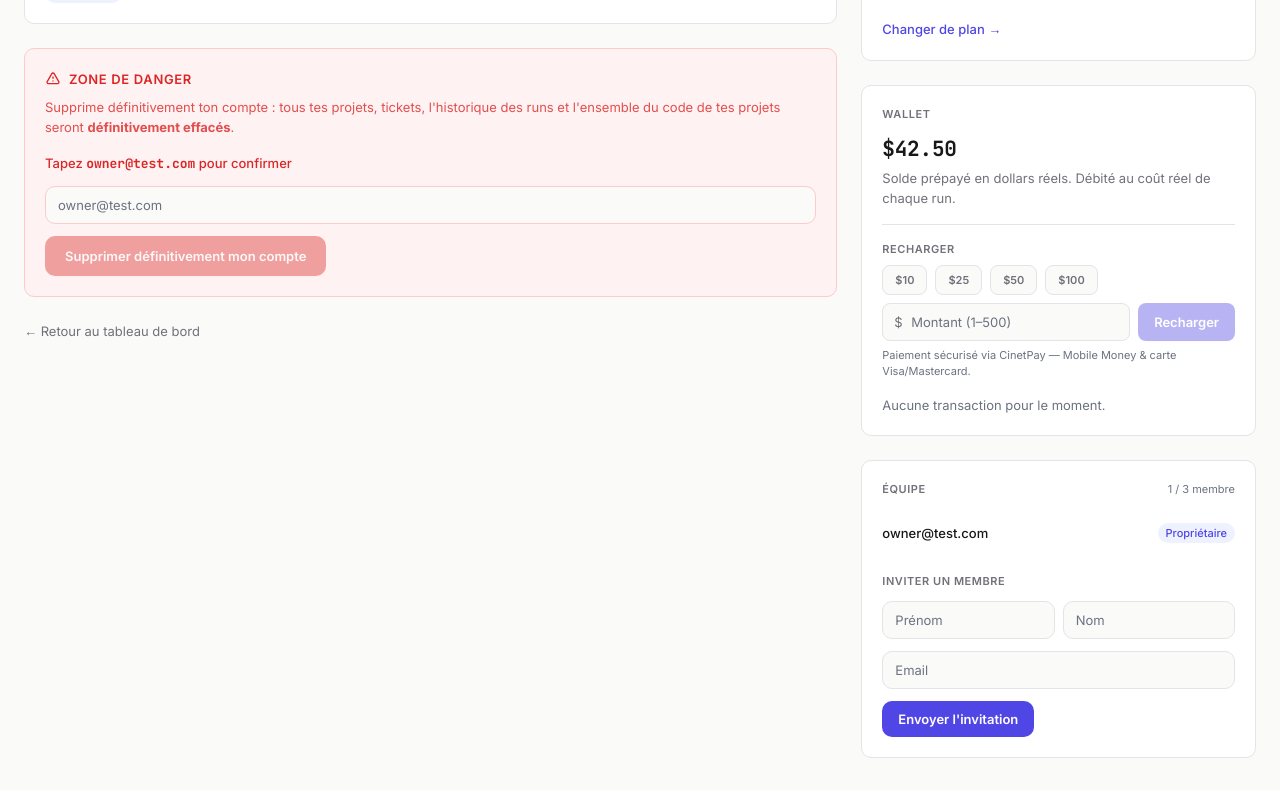
Test case: AccountSettingsPage — section Équipe › invite un membre avec succès
(page scrolled)
Expected: the form with test id "invite-form" is shown, [882, 573, 1235, 737]
Type "Bob" into the field with placeholder "Prénom".
click(968, 620); type("Bob")  # box [882, 601, 1055, 639]
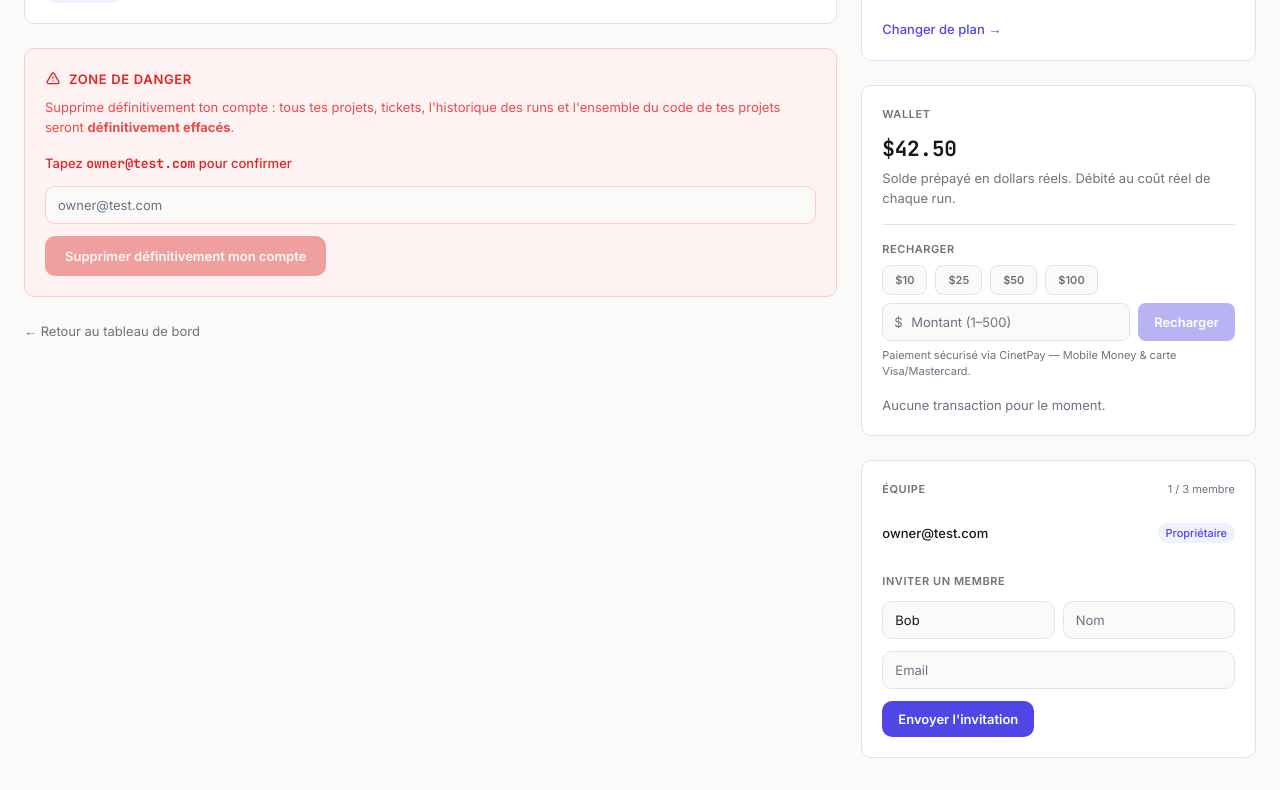
Type "Martin" into the field with placeholder "Nom".
click(1149, 620); type("Martin")  # box [1063, 601, 1235, 639]
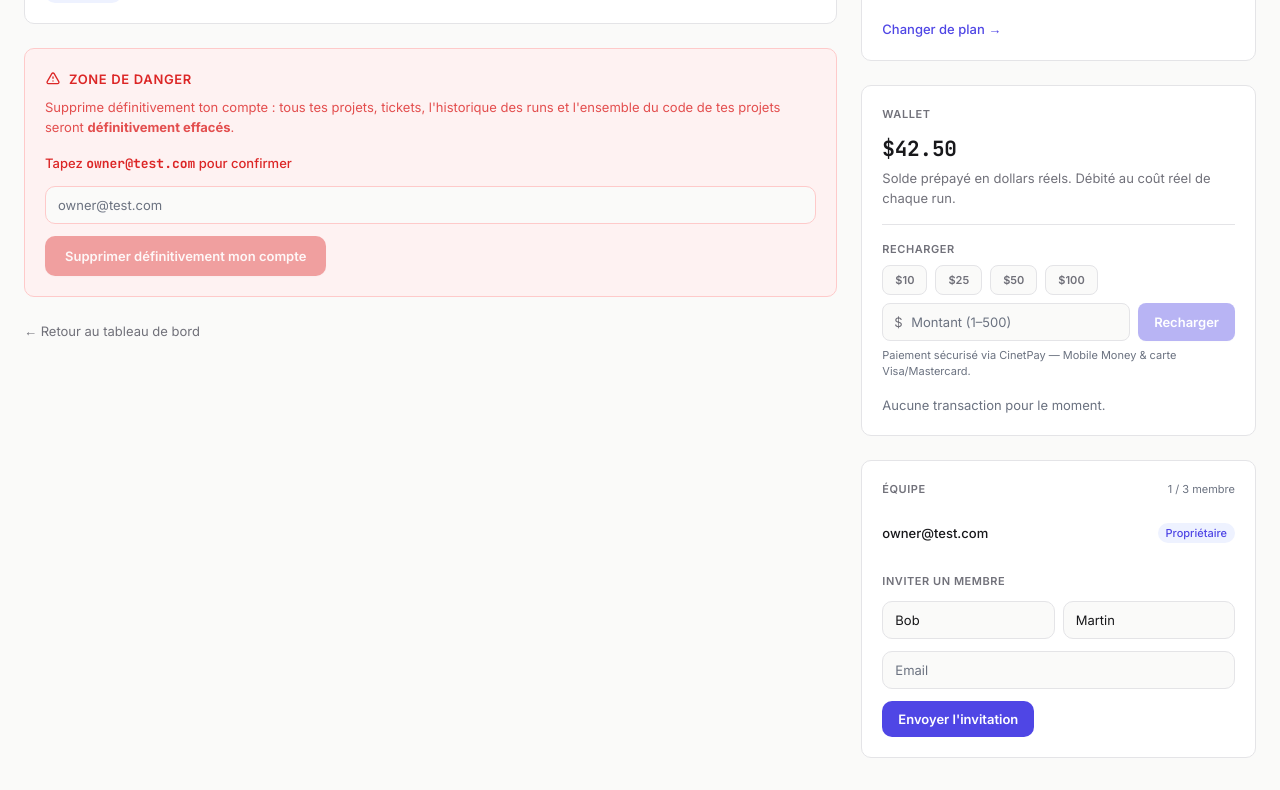
Type "bob@test.com" into the field with placeholder "Email".
click(1059, 670); type("bob@test.com")  # box [882, 651, 1235, 689]
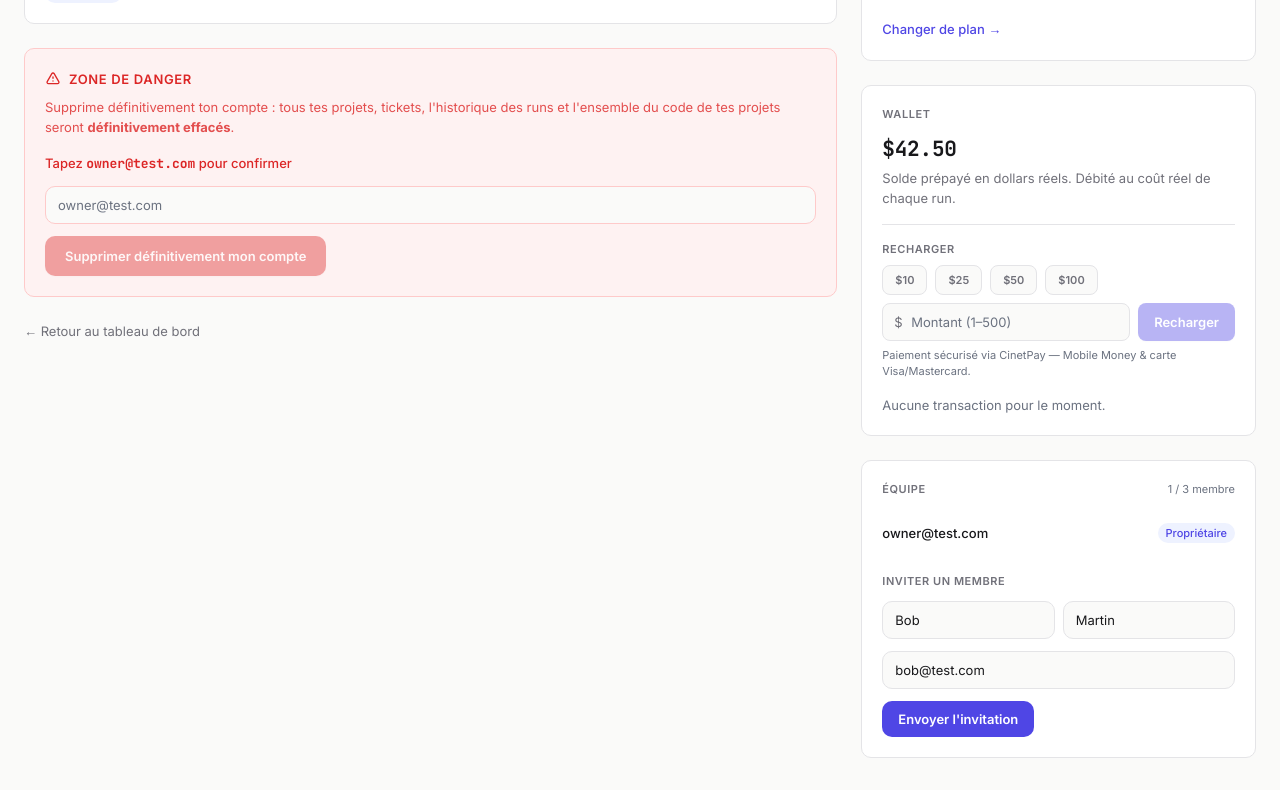
Click the button "Envoyer l'invitation".
click(958, 719)  # box [882, 701, 1034, 737]
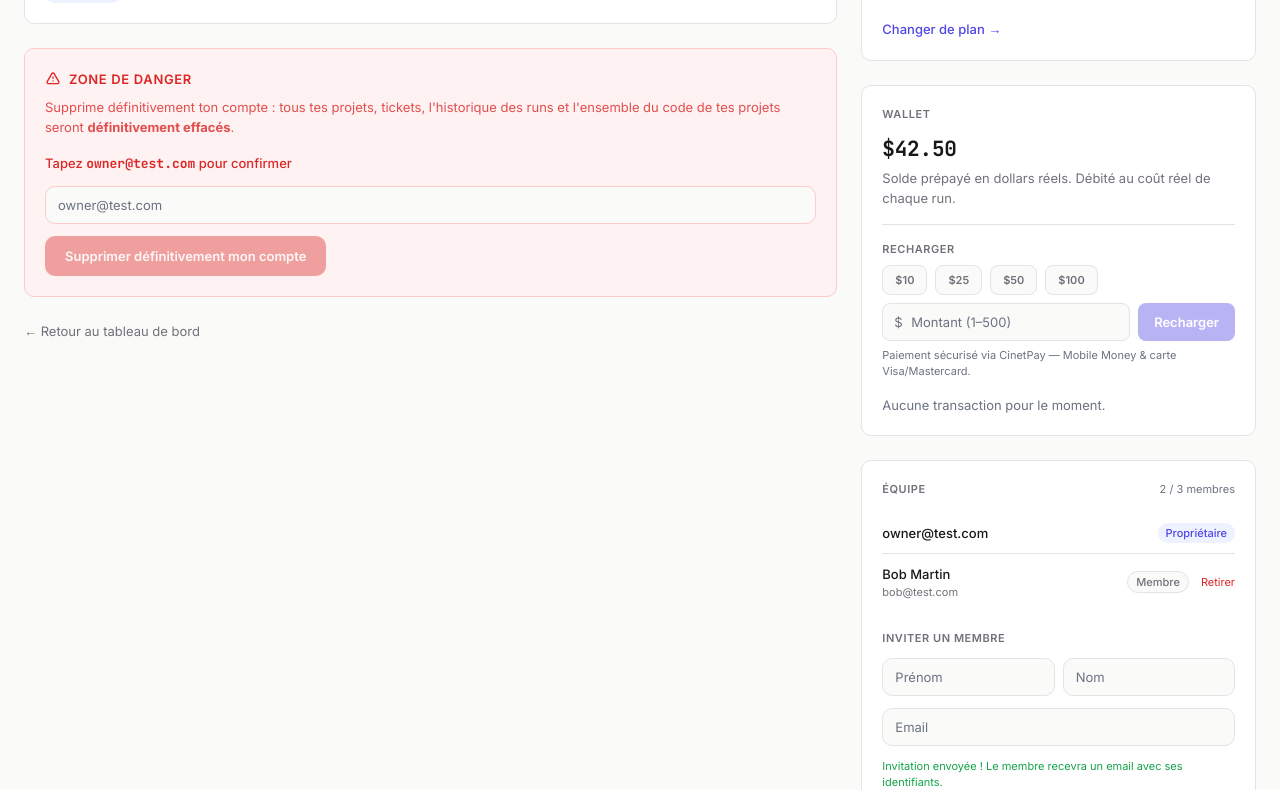
Now the text "Invitation envoyée" is shown, box [882, 759, 1183, 789]
